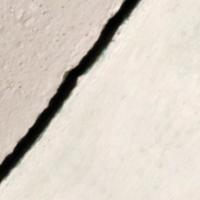crack: (0, 0, 147, 185)
